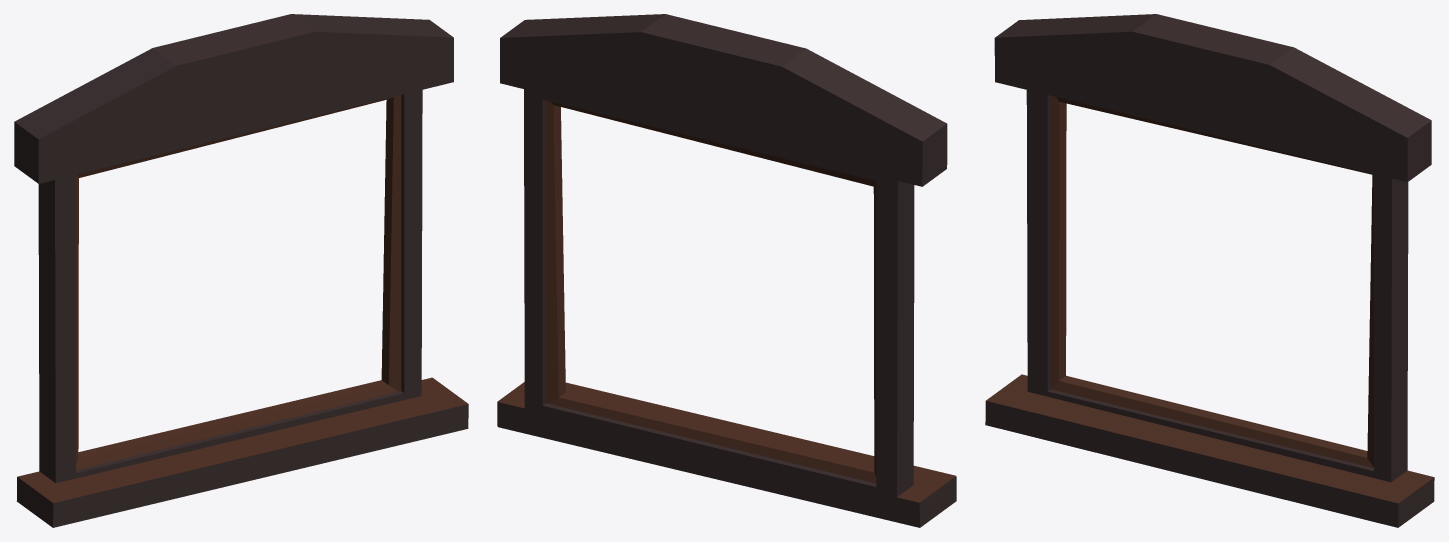
File: Window 4x4 V3 Frame.glb
3 renders of one model, left to right at view 1: azimuth 30°, elevation 25°; view 2: azimuth 150°, elevation 25°; view 3: azimuth 330°, elevation 25°, orthographic. The views are drawn at different scales.
Parts seen in each view (by area): view 1: Window 4x4 V3 Frame; view 2: Window 4x4 V3 Frame; view 3: Window 4x4 V3 Frame.
Part boxes in pixels (bbox=[...]): Window 4x4 V3 Frame: bbox=[14, 14, 468, 527]; Window 4x4 V3 Frame: bbox=[497, 14, 956, 527]; Window 4x4 V3 Frame: bbox=[985, 14, 1434, 527].
Bounding box in the file's own units: 2.36 × 2.28 × 0.3537.
1 material, 1 textured.
